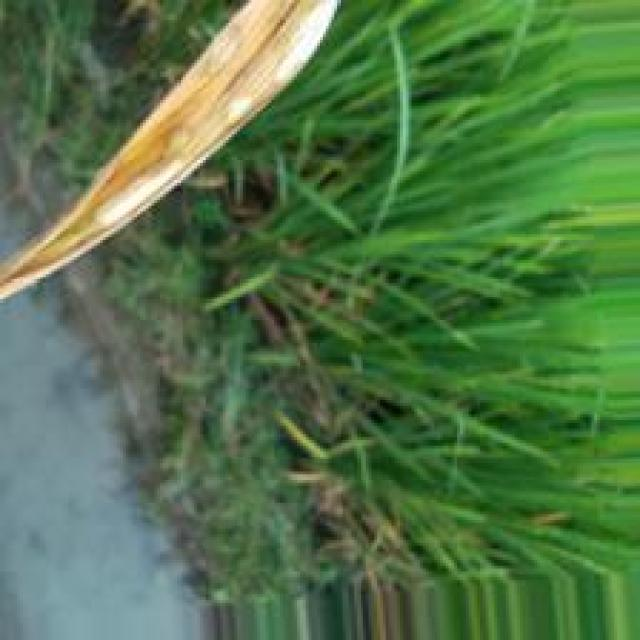Rice False Smut: (1, 3, 337, 297)
